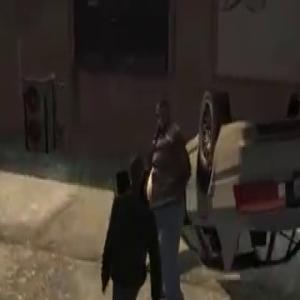fatal: (140, 71, 300, 283)
